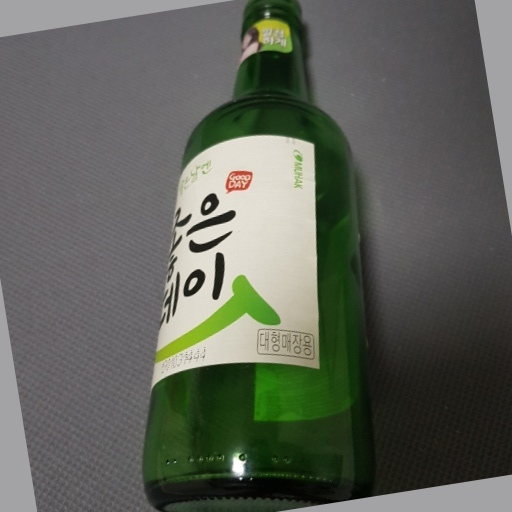Glass_0: (136, 1, 370, 512)
